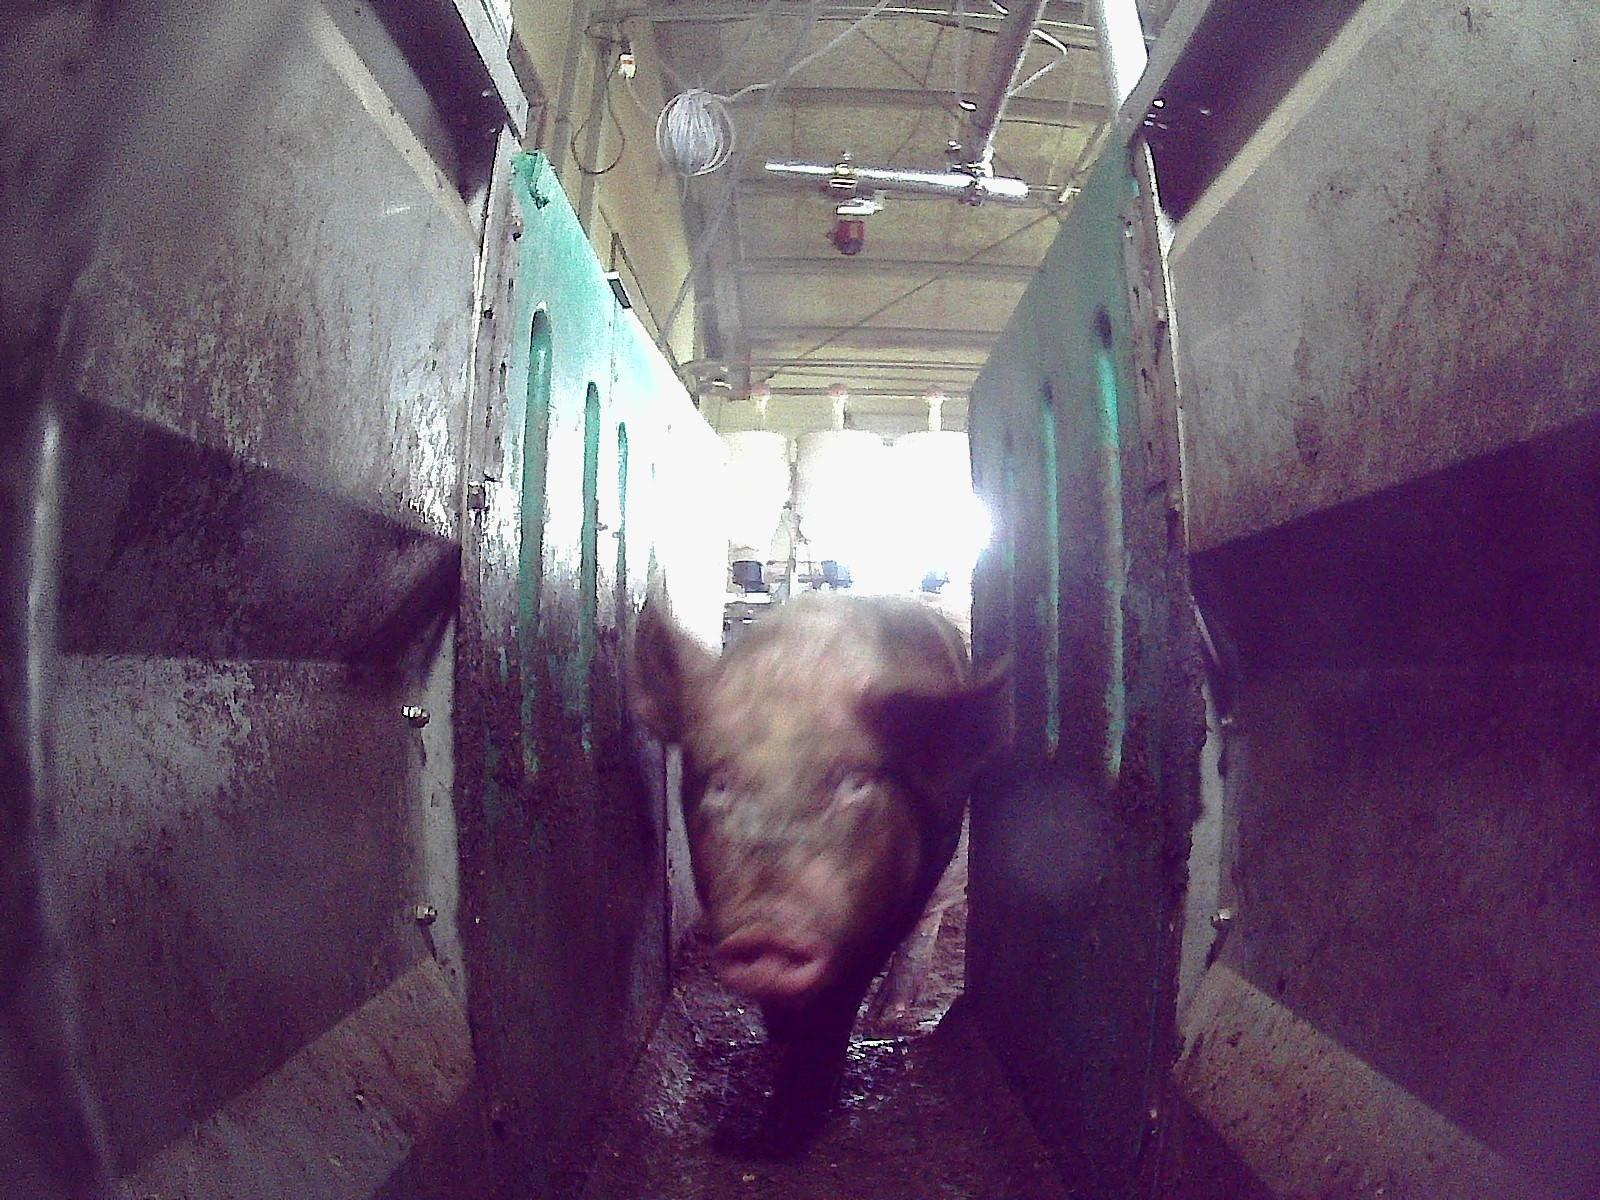Face: (680, 681, 906, 992)
